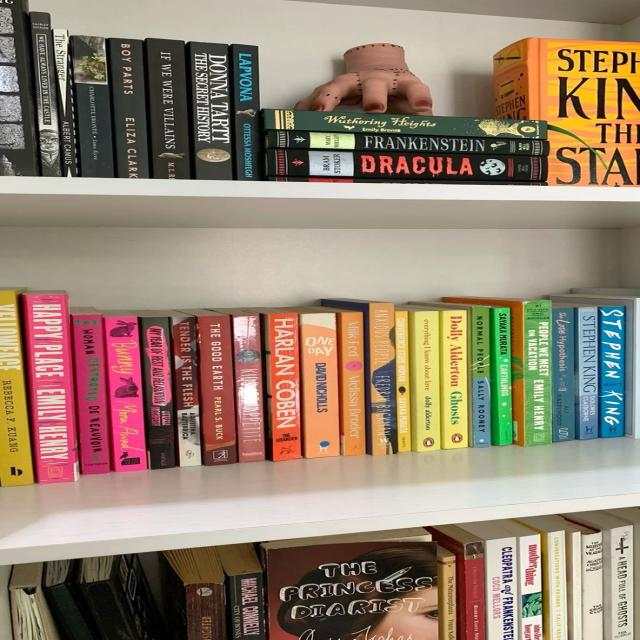book: (20, 293, 75, 483), (266, 149, 547, 181), (264, 109, 548, 139), (102, 315, 147, 472), (268, 131, 548, 156), (195, 315, 239, 466), (144, 37, 190, 179), (0, 290, 33, 486), (73, 314, 111, 474), (191, 41, 234, 180), (72, 36, 114, 178), (301, 312, 339, 458), (110, 38, 149, 178), (267, 313, 303, 461), (31, 11, 62, 177), (142, 316, 174, 470), (233, 314, 265, 462), (369, 303, 398, 456), (522, 301, 552, 447), (172, 317, 201, 467), (233, 44, 262, 180), (53, 29, 79, 177), (414, 310, 441, 452), (341, 312, 366, 455), (443, 310, 467, 449), (552, 307, 576, 442), (85, 579, 137, 640), (600, 307, 624, 438), (488, 538, 518, 640), (470, 306, 491, 448), (578, 306, 598, 440), (520, 534, 543, 640), (612, 524, 633, 640), (546, 530, 568, 640), (232, 572, 267, 640), (186, 584, 227, 640), (495, 308, 511, 446), (583, 533, 603, 639), (396, 311, 411, 452), (465, 541, 486, 640), (441, 557, 457, 640)
